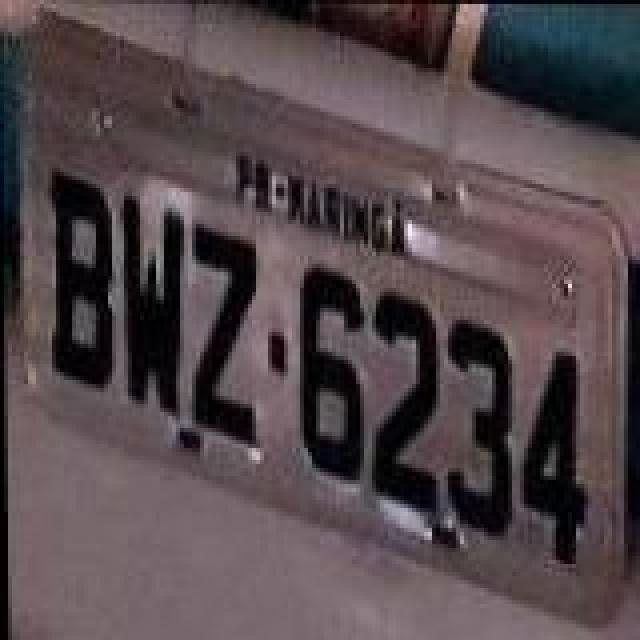2: (366, 286, 442, 518)
3: (438, 314, 514, 538)
4: (512, 348, 588, 572)
6: (296, 262, 368, 486)
B: (48, 166, 120, 394)
W: (118, 192, 186, 424)
Z: (184, 220, 256, 448)
